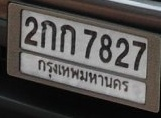num2: (23, 15, 39, 46)
txt01: (59, 24, 77, 55), (40, 19, 57, 51)
